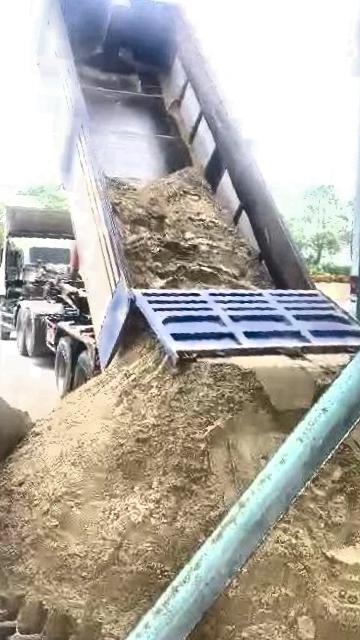sand: (0, 334, 344, 640), (178, 441, 360, 640), (115, 170, 267, 287), (0, 377, 34, 489), (123, 316, 146, 351), (347, 404, 360, 461)
